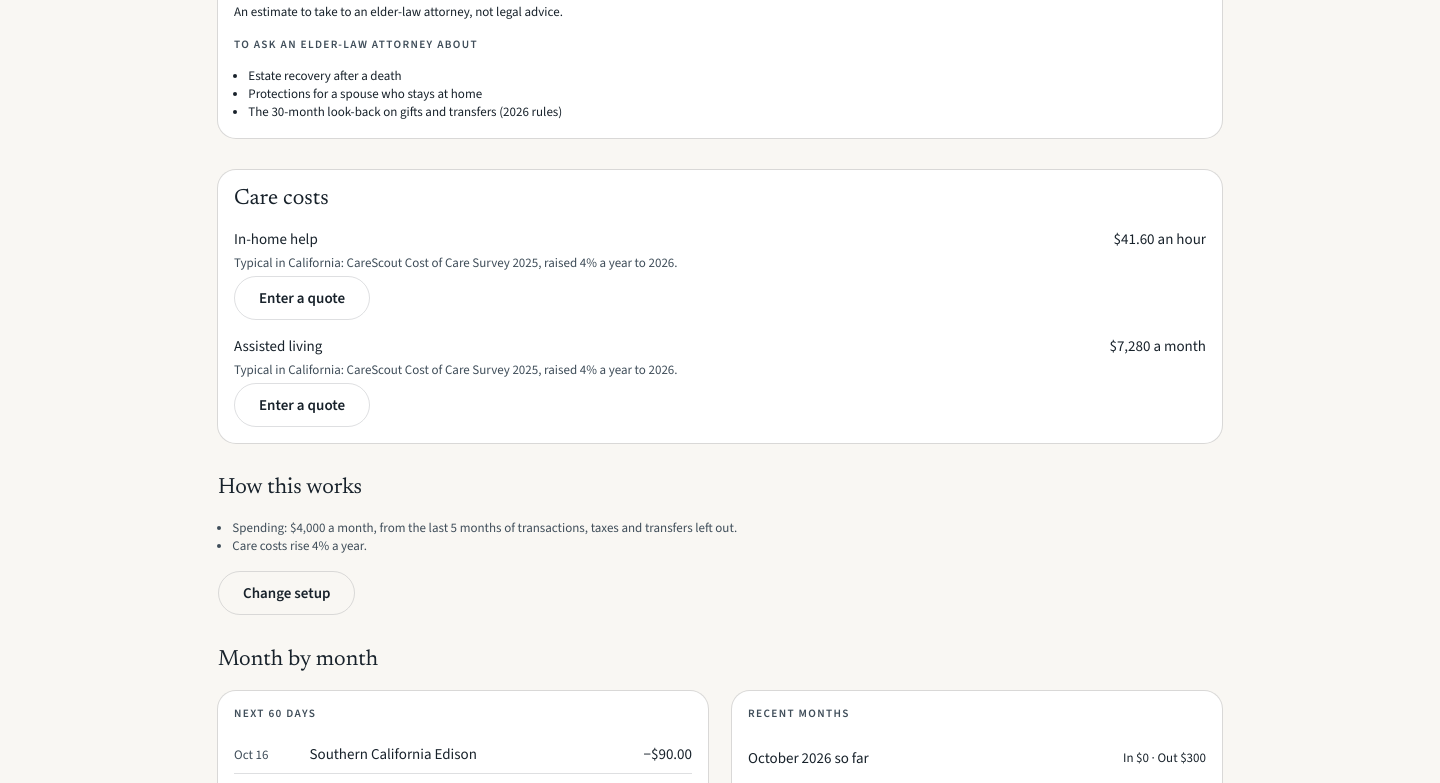
Changing Care › enters a quote for a care cost and goes back to the typical figure
(page scrolled)
Click the button with aria-label "Enter a quote for Assisted living": (302, 406) left=234, top=384, right=370, bottom=428
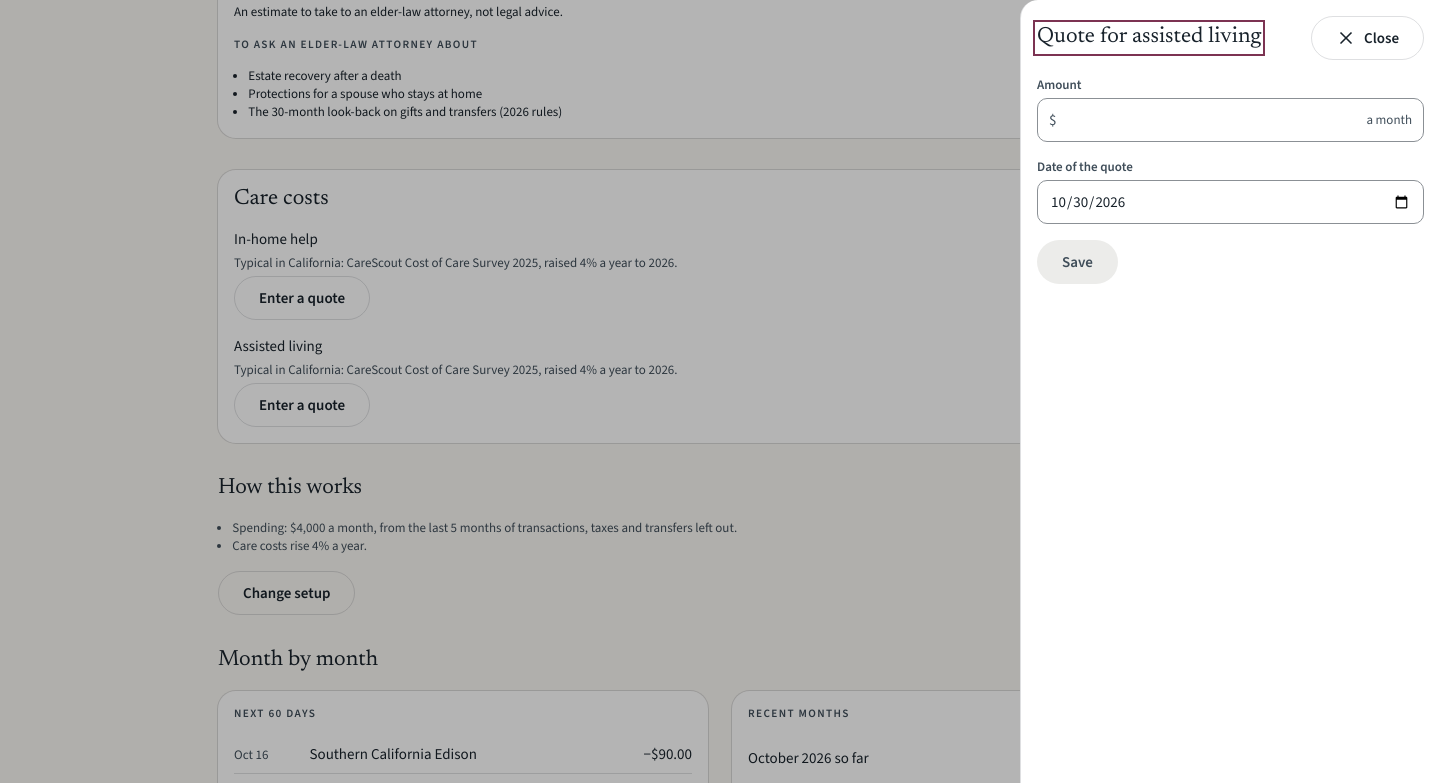
In the field labelled "Amount": (1230, 120) left=1037, top=98, right=1424, bottom=142, type "6,450"
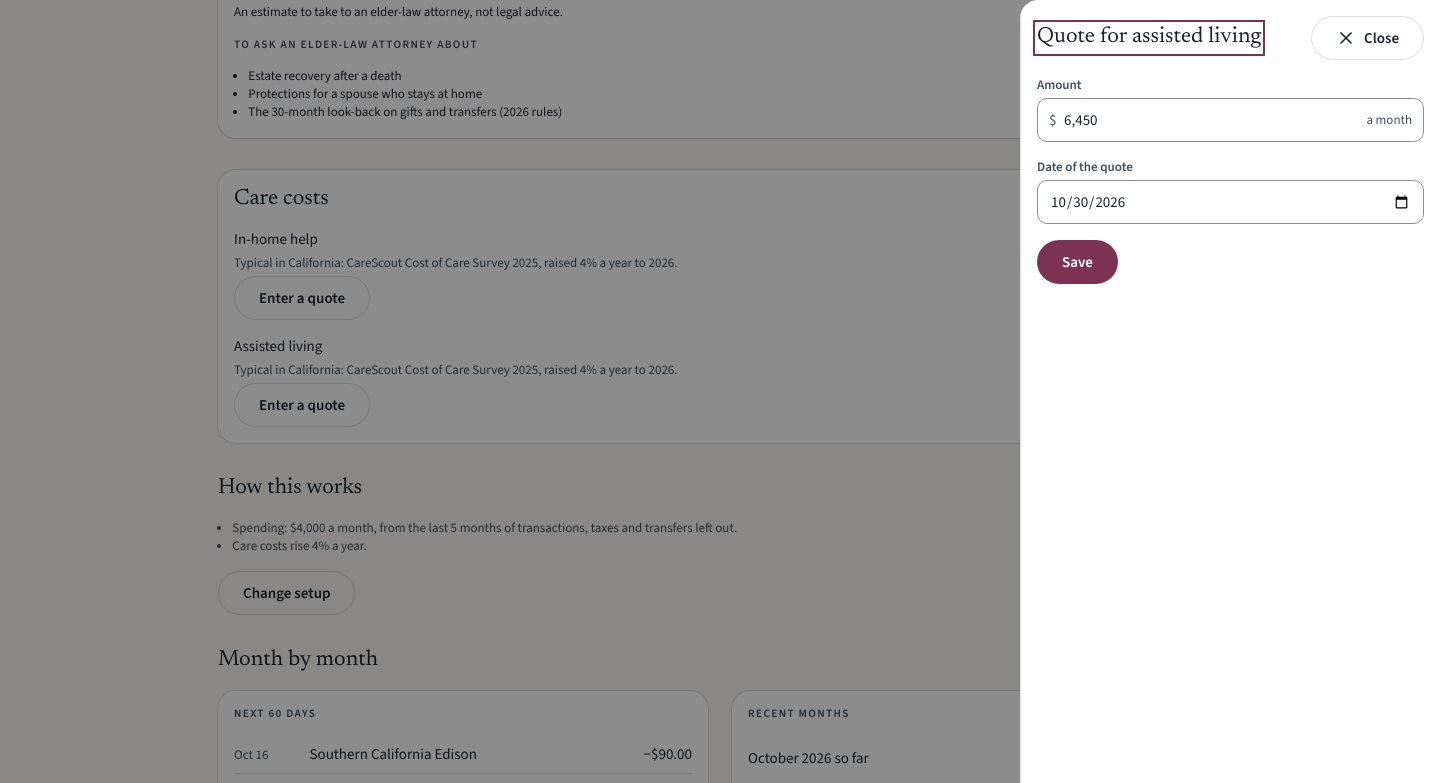
In the date field labelled "Date of the quote": (1230, 202) left=1037, top=180, right=1424, bottom=224, type "2026-10-02"
Click the button "Save": (1077, 262) left=1037, top=240, right=1118, bottom=284
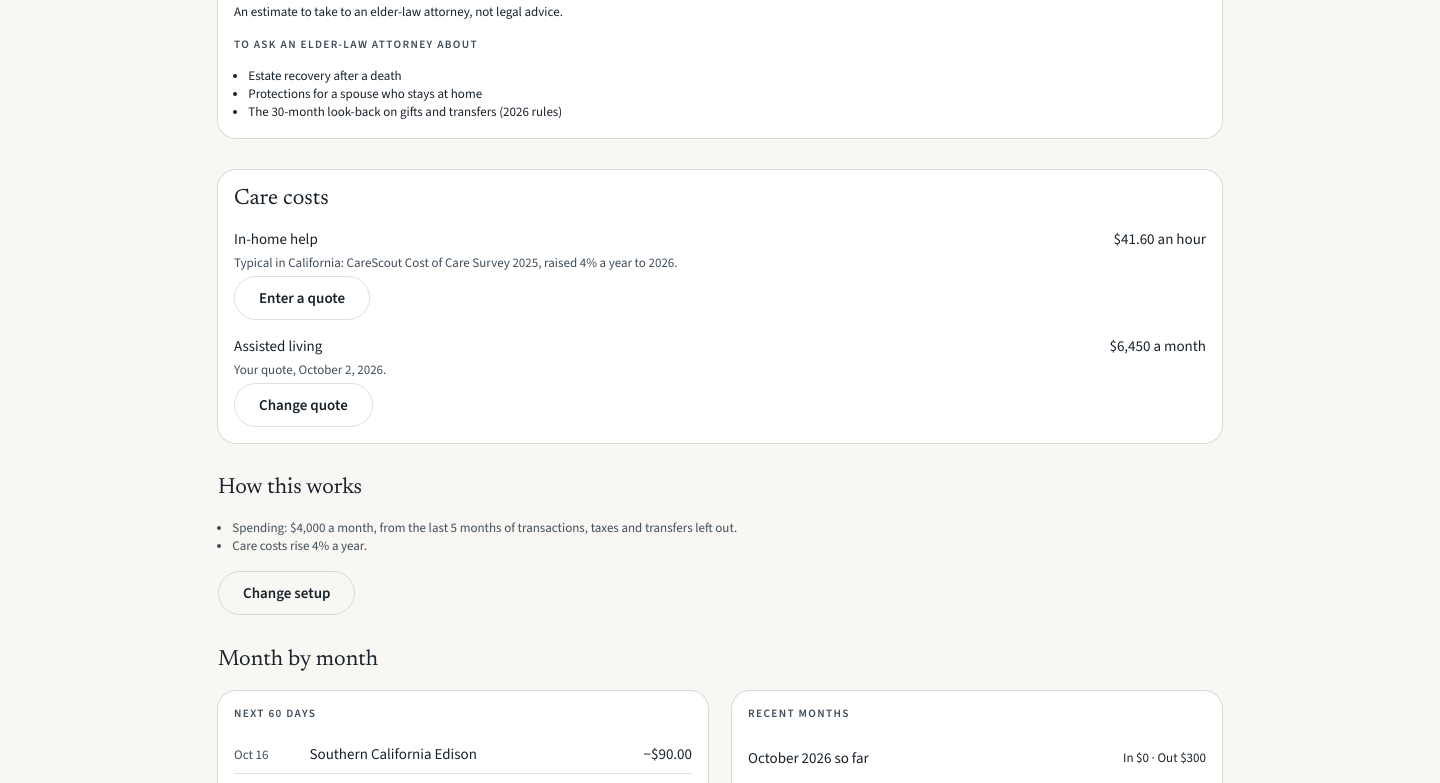
Check: the text "Your quote, October 2, 2026." is shown, box left=234, top=361, right=386, bottom=380
Click the button with aria-label "Change quote for Assisted living": (303, 406) left=234, top=384, right=373, bottom=428
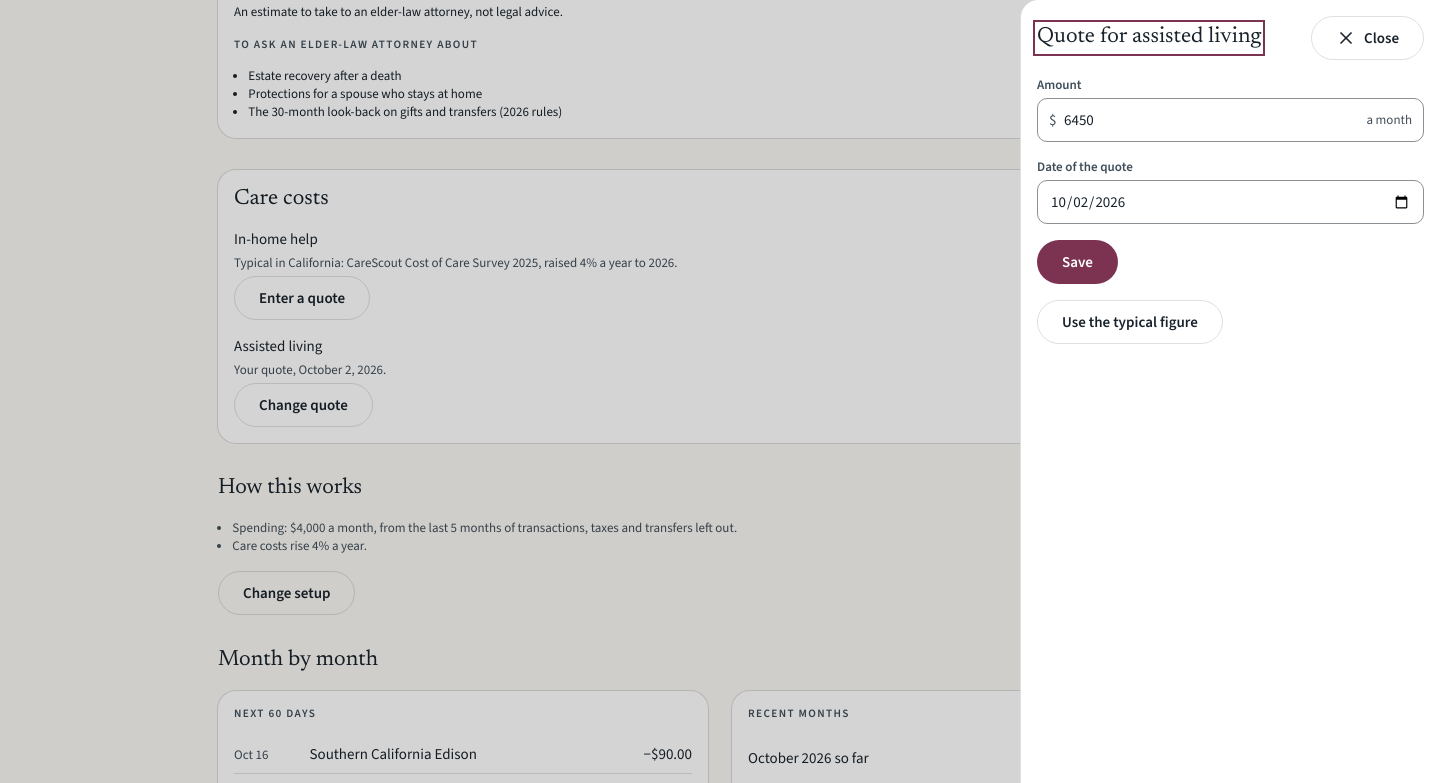
Click the button "Use the typical figure": (1130, 322) left=1037, top=300, right=1223, bottom=344
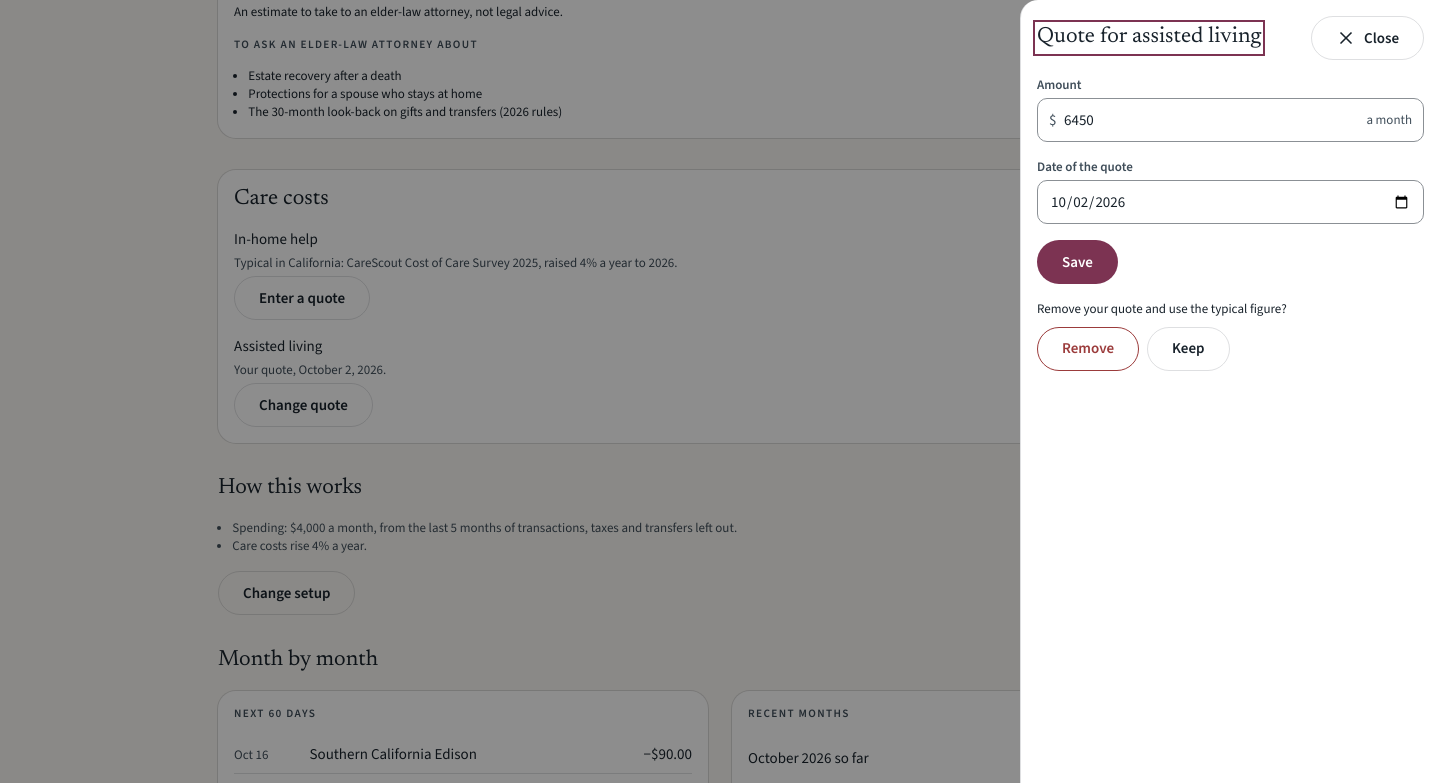
Click the button with aria-label "Remove your quote for assisted living": (1088, 349) left=1037, top=327, right=1139, bottom=371
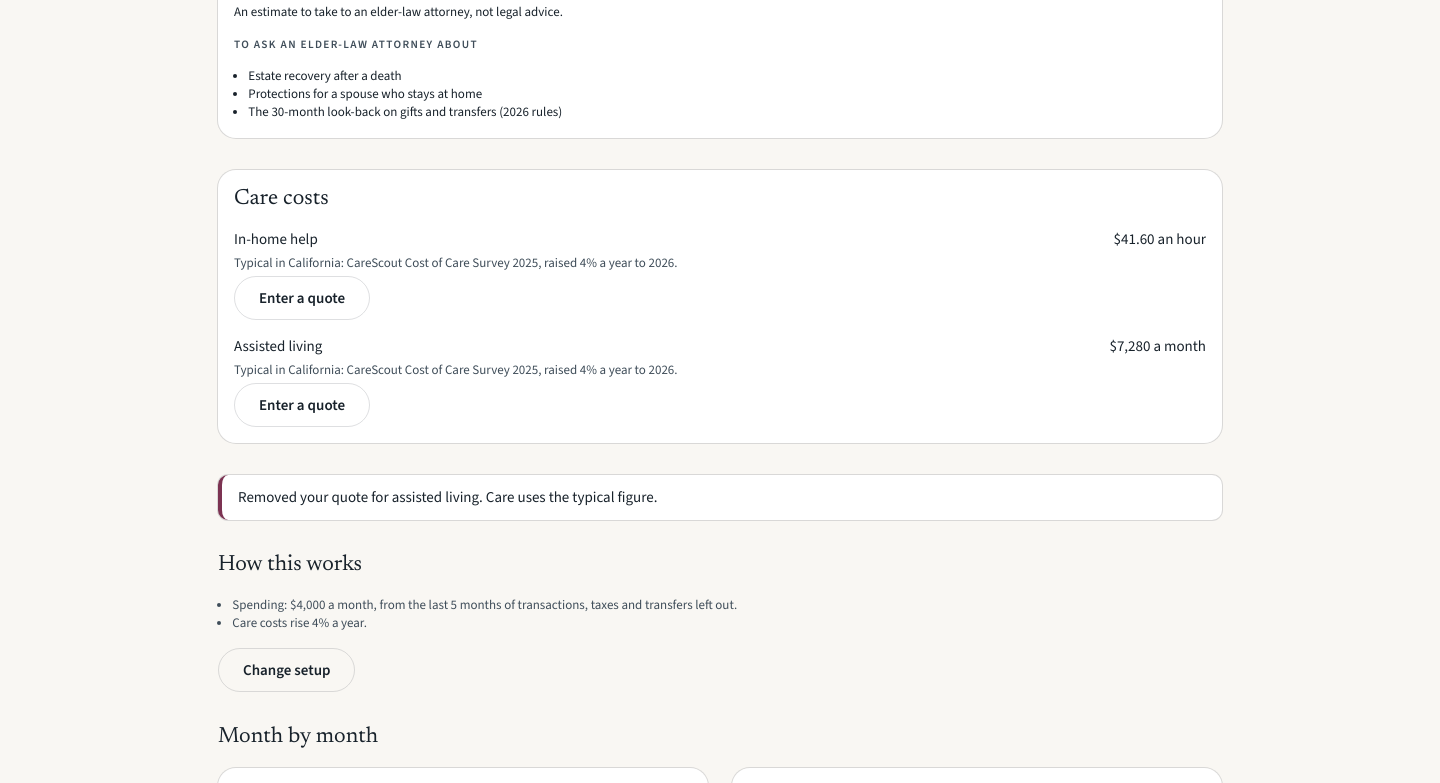
Check: the text "Removed your quote for assisted living. Care uses the typical figure." is shown, box left=218, top=476, right=1222, bottom=520
